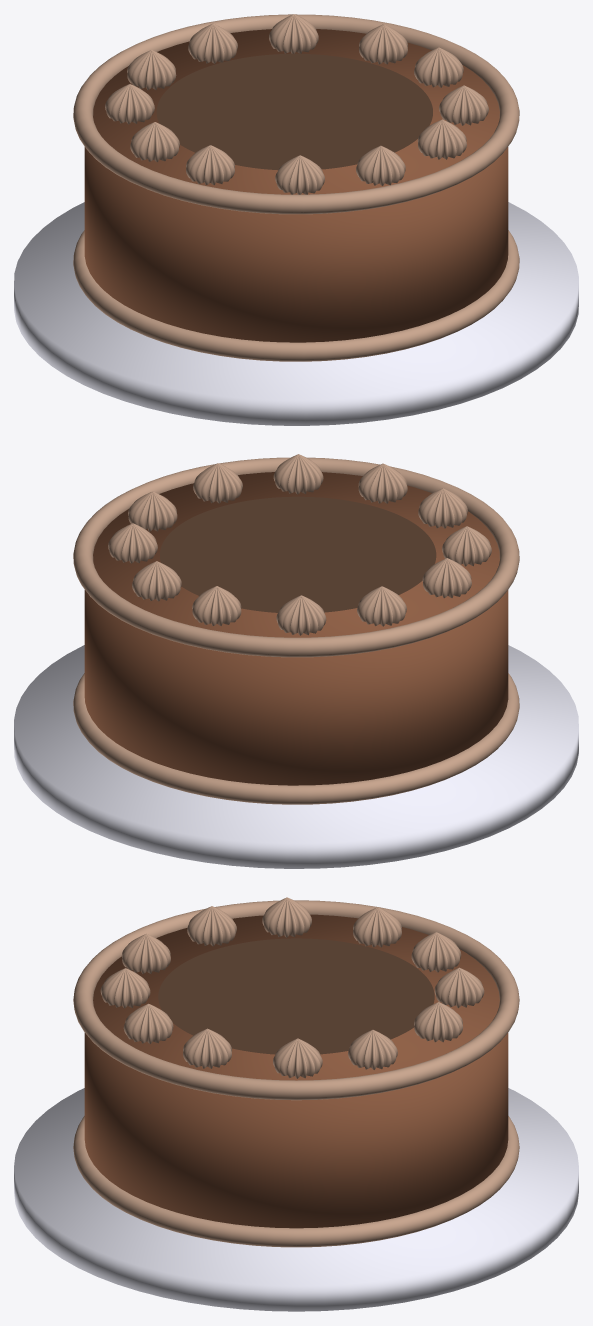
Rendered from round_chocolate_style3.glb.
3 views of the same model, one above another, from view 1: azimuth 30°, elevation 25°; view 2: azimuth 150°, elevation 25°; view 3: azimuth 270°, elevation 25° (orthographic).
Parts seen in each view (by area): view 1: CakeBase, IcingStand, CakeTopColor, IcingRing, IcingRing.001, CakecolorCircle, design10, design6, design2, design7, design4, design1 (+6 smaller); view 2: CakeBase, IcingStand, CakeTopColor, IcingRing, IcingRing.001, CakecolorCircle, design2, design5, design3, design9, design10, design1 (+6 smaller); view 3: CakeBase, IcingStand, CakeTopColor, IcingRing, IcingRing.001, CakecolorCircle, design2, design11, design10, design7, design6, design8 (+6 smaller).
Part boxes in pixels (x1=…): CakeBase: x1=84, y1=29, x2=508, y2=342; IcingStand: x1=14, y1=202, x2=578, y2=425; CakeTopColor: x1=169, y1=57, x2=423, y2=164; IcingRing: x1=73, y1=14, x2=519, y2=214; IcingRing.001: x1=73, y1=230, x2=519, y2=361; CakecolorCircle: x1=156, y1=53, x2=432, y2=170; design10: x1=105, y1=84, x2=154, y2=124; design6: x1=127, y1=50, x2=176, y2=89; design2: x1=356, y1=145, x2=405, y2=185; design7: x1=186, y1=145, x2=234, y2=185; design4: x1=414, y1=47, x2=463, y2=87; design1: x1=188, y1=23, x2=237, y2=63; CakeBase: x1=84, y1=472, x2=508, y2=785; IcingStand: x1=14, y1=645, x2=578, y2=868; CakeTopColor: x1=169, y1=500, x2=423, y2=607; IcingRing: x1=73, y1=457, x2=519, y2=657; IcingRing.001: x1=73, y1=673, x2=519, y2=804; CakecolorCircle: x1=160, y1=496, x2=436, y2=612; design2: x1=358, y1=463, x2=407, y2=503; design5: x1=273, y1=454, x2=323, y2=494; design3: x1=422, y1=558, x2=471, y2=598; design9: x1=193, y1=463, x2=242, y2=503; design10: x1=357, y1=586, x2=406, y2=626; design1: x1=192, y1=586, x2=241, y2=625; CakeBase: x1=84, y1=914, x2=508, y2=1228; IcingStand: x1=14, y1=1088, x2=578, y2=1311; CakeTopColor: x1=169, y1=943, x2=423, y2=1049; IcingRing: x1=73, y1=900, x2=519, y2=1100; IcingRing.001: x1=73, y1=1116, x2=519, y2=1247; CakecolorCircle: x1=158, y1=938, x2=434, y2=1054; design2: x1=100, y1=968, x2=150, y2=1008; design11: x1=414, y1=1002, x2=463, y2=1042; design10: x1=353, y1=907, x2=401, y2=947; design7: x1=187, y1=906, x2=236, y2=946; design6: x1=411, y1=932, x2=461, y2=972; design8: x1=348, y1=1030, x2=397, y2=1069.
Bounding box in the file's own units: 4 × 1.75 × 4.
